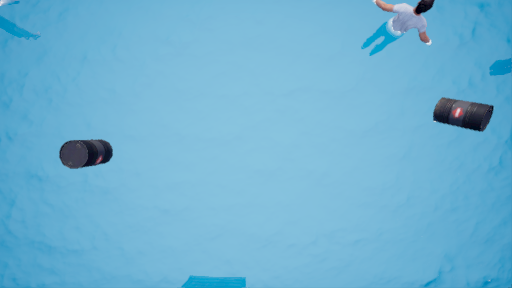person: (368, 3, 445, 68)
